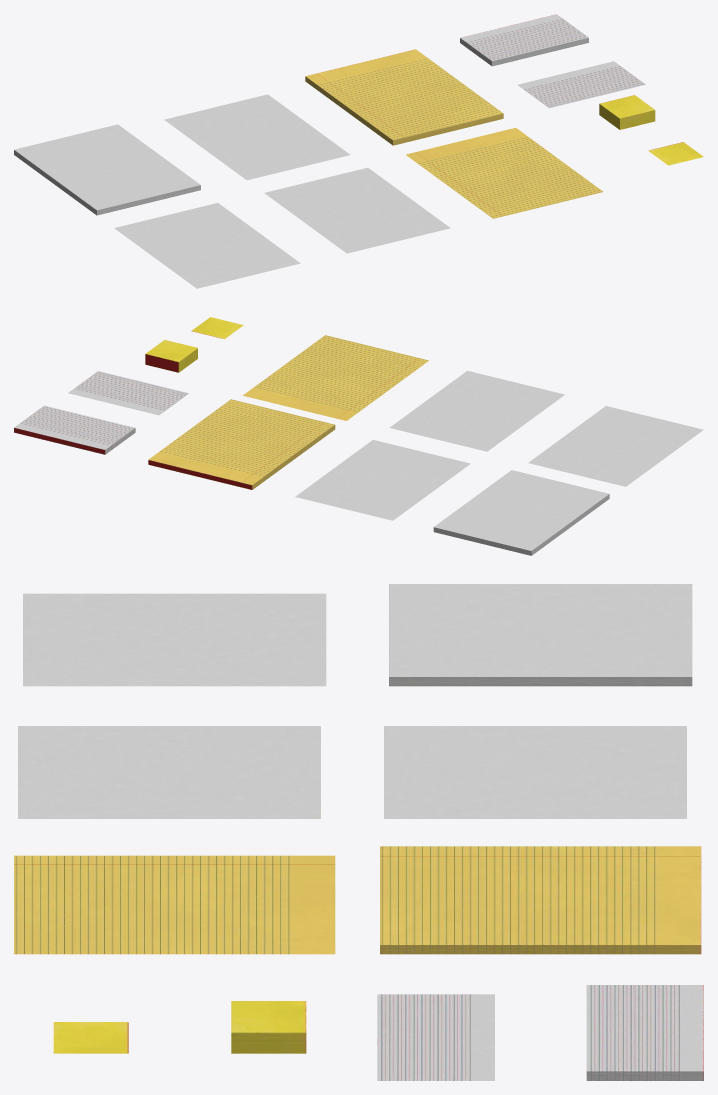
The model's file is office_notepads.glb.
The picture shows the model from 3 angles, top to bottom: view 1: azimuth 30°, elevation 25°; view 2: azimuth 150°, elevation 25°; view 3: azimuth 270°, elevation 25°; orthographic projection. The views are drawn at different scales.
Visible parts, largest first — view 1: office_notepads_yellow_pad, office_notepads_yellow_sheet, office_notepads_a4_stack, office_notepads_a4_a, office_notepads_a4_b, office_notepads_a4_c, office_notepads_note_stack, office_notepads_note_sheet, office_notepads_sticky_stack, office_notepads_sticky_sheet; view 2: office_notepads_yellow_pad, office_notepads_yellow_sheet, office_notepads_a4_stack, office_notepads_a4_b, office_notepads_a4_c, office_notepads_a4_a, office_notepads_note_stack, office_notepads_note_sheet, office_notepads_sticky_stack, office_notepads_sticky_sheet; view 3: office_notepads_yellow_pad, office_notepads_yellow_sheet, office_notepads_a4_stack, office_notepads_a4_a, office_notepads_a4_b, office_notepads_a4_c, office_notepads_note_stack, office_notepads_note_sheet, office_notepads_sticky_stack, office_notepads_sticky_sheet.
Part boxes in pixels (left/top/right/bottom): office_notepads_yellow_pad: left=305, top=49, right=503, bottom=145; office_notepads_yellow_sheet: left=406, top=127, right=603, bottom=218; office_notepads_a4_stack: left=14, top=124, right=200, bottom=215; office_notepads_a4_a: left=114, top=203, right=300, bottom=288; office_notepads_a4_b: left=164, top=94, right=350, bottom=180; office_notepads_a4_c: left=264, top=167, right=450, bottom=253; office_notepads_note_stack: left=460, top=14, right=588, bottom=66; office_notepads_note_sheet: left=517, top=61, right=645, bottom=108; office_notepads_sticky_stack: left=599, top=95, right=655, bottom=129; office_notepads_sticky_sheet: left=648, top=142, right=703, bottom=165; office_notepads_yellow_pad: left=148, top=399, right=335, bottom=489; office_notepads_yellow_sheet: left=243, top=335, right=428, bottom=420; office_notepads_a4_stack: left=433, top=470, right=609, bottom=555; office_notepads_a4_b: left=295, top=440, right=470, bottom=520; office_notepads_a4_c: left=389, top=371, right=564, bottom=451; office_notepads_a4_a: left=528, top=406, right=703, bottom=486; office_notepads_note_stack: left=14, top=405, right=135, bottom=454; office_notepads_note_sheet: left=68, top=371, right=188, bottom=415; office_notepads_sticky_stack: left=145, top=340, right=197, bottom=372; office_notepads_sticky_sheet: left=191, top=317, right=243, bottom=339; office_notepads_yellow_pad: left=380, top=846, right=701, bottom=954; office_notepads_yellow_sheet: left=14, top=855, right=335, bottom=954; office_notepads_a4_stack: left=389, top=584, right=692, bottom=686; office_notepads_a4_a: left=23, top=593, right=326, bottom=686; office_notepads_a4_b: left=384, top=726, right=686, bottom=818; office_notepads_a4_c: left=18, top=726, right=320, bottom=818; office_notepads_note_stack: left=586, top=985, right=703, bottom=1080; office_notepads_note_sheet: left=377, top=994, right=494, bottom=1080; office_notepads_sticky_stack: left=231, top=1001, right=306, bottom=1053; office_notepads_sticky_sheet: left=53, top=1022, right=128, bottom=1053.
Bounding box in the file's own units: 1.1 × 0.022 × 0.6598.
1 material, 1 textured.
